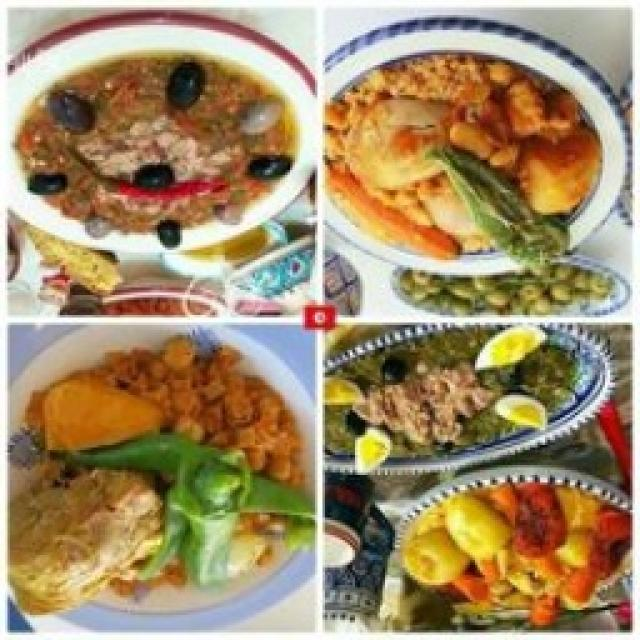Couscous: (322, 20, 632, 322), (12, 332, 312, 615)
Salade mechweya: (8, 8, 318, 252), (325, 320, 610, 475)
